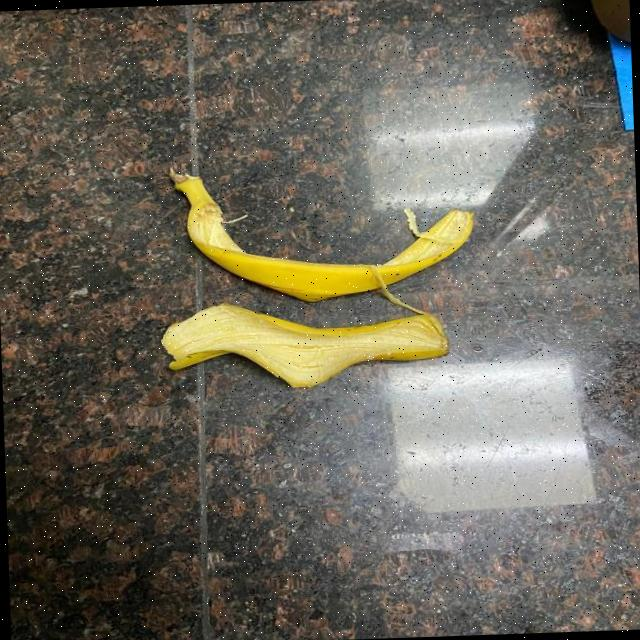banana-peel: (165, 154, 478, 308), (158, 294, 450, 394)
